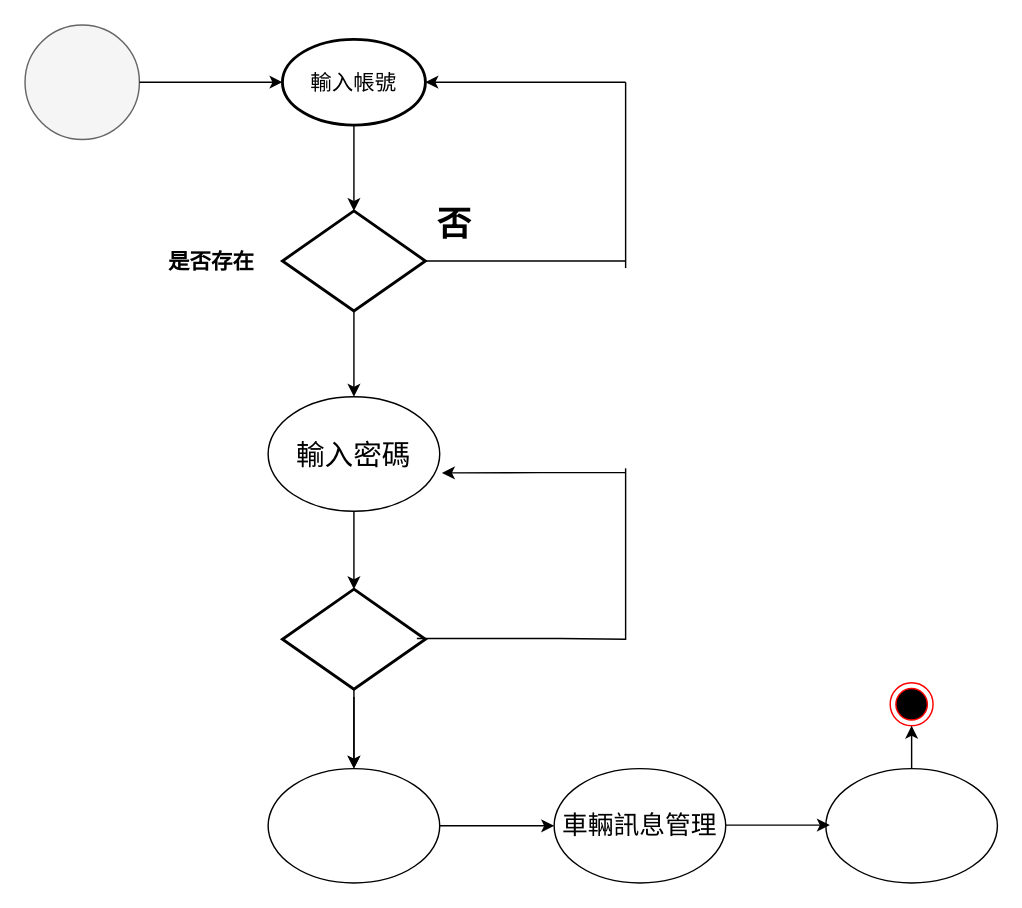
Some shapes in this 1022 by 908 pixel diagram are drawn without their labels. Here are the shapes that lost their labels. From the top down, the centre of each, then its label:
point 353,825: 進入系統
point 910,825: 退出系統
